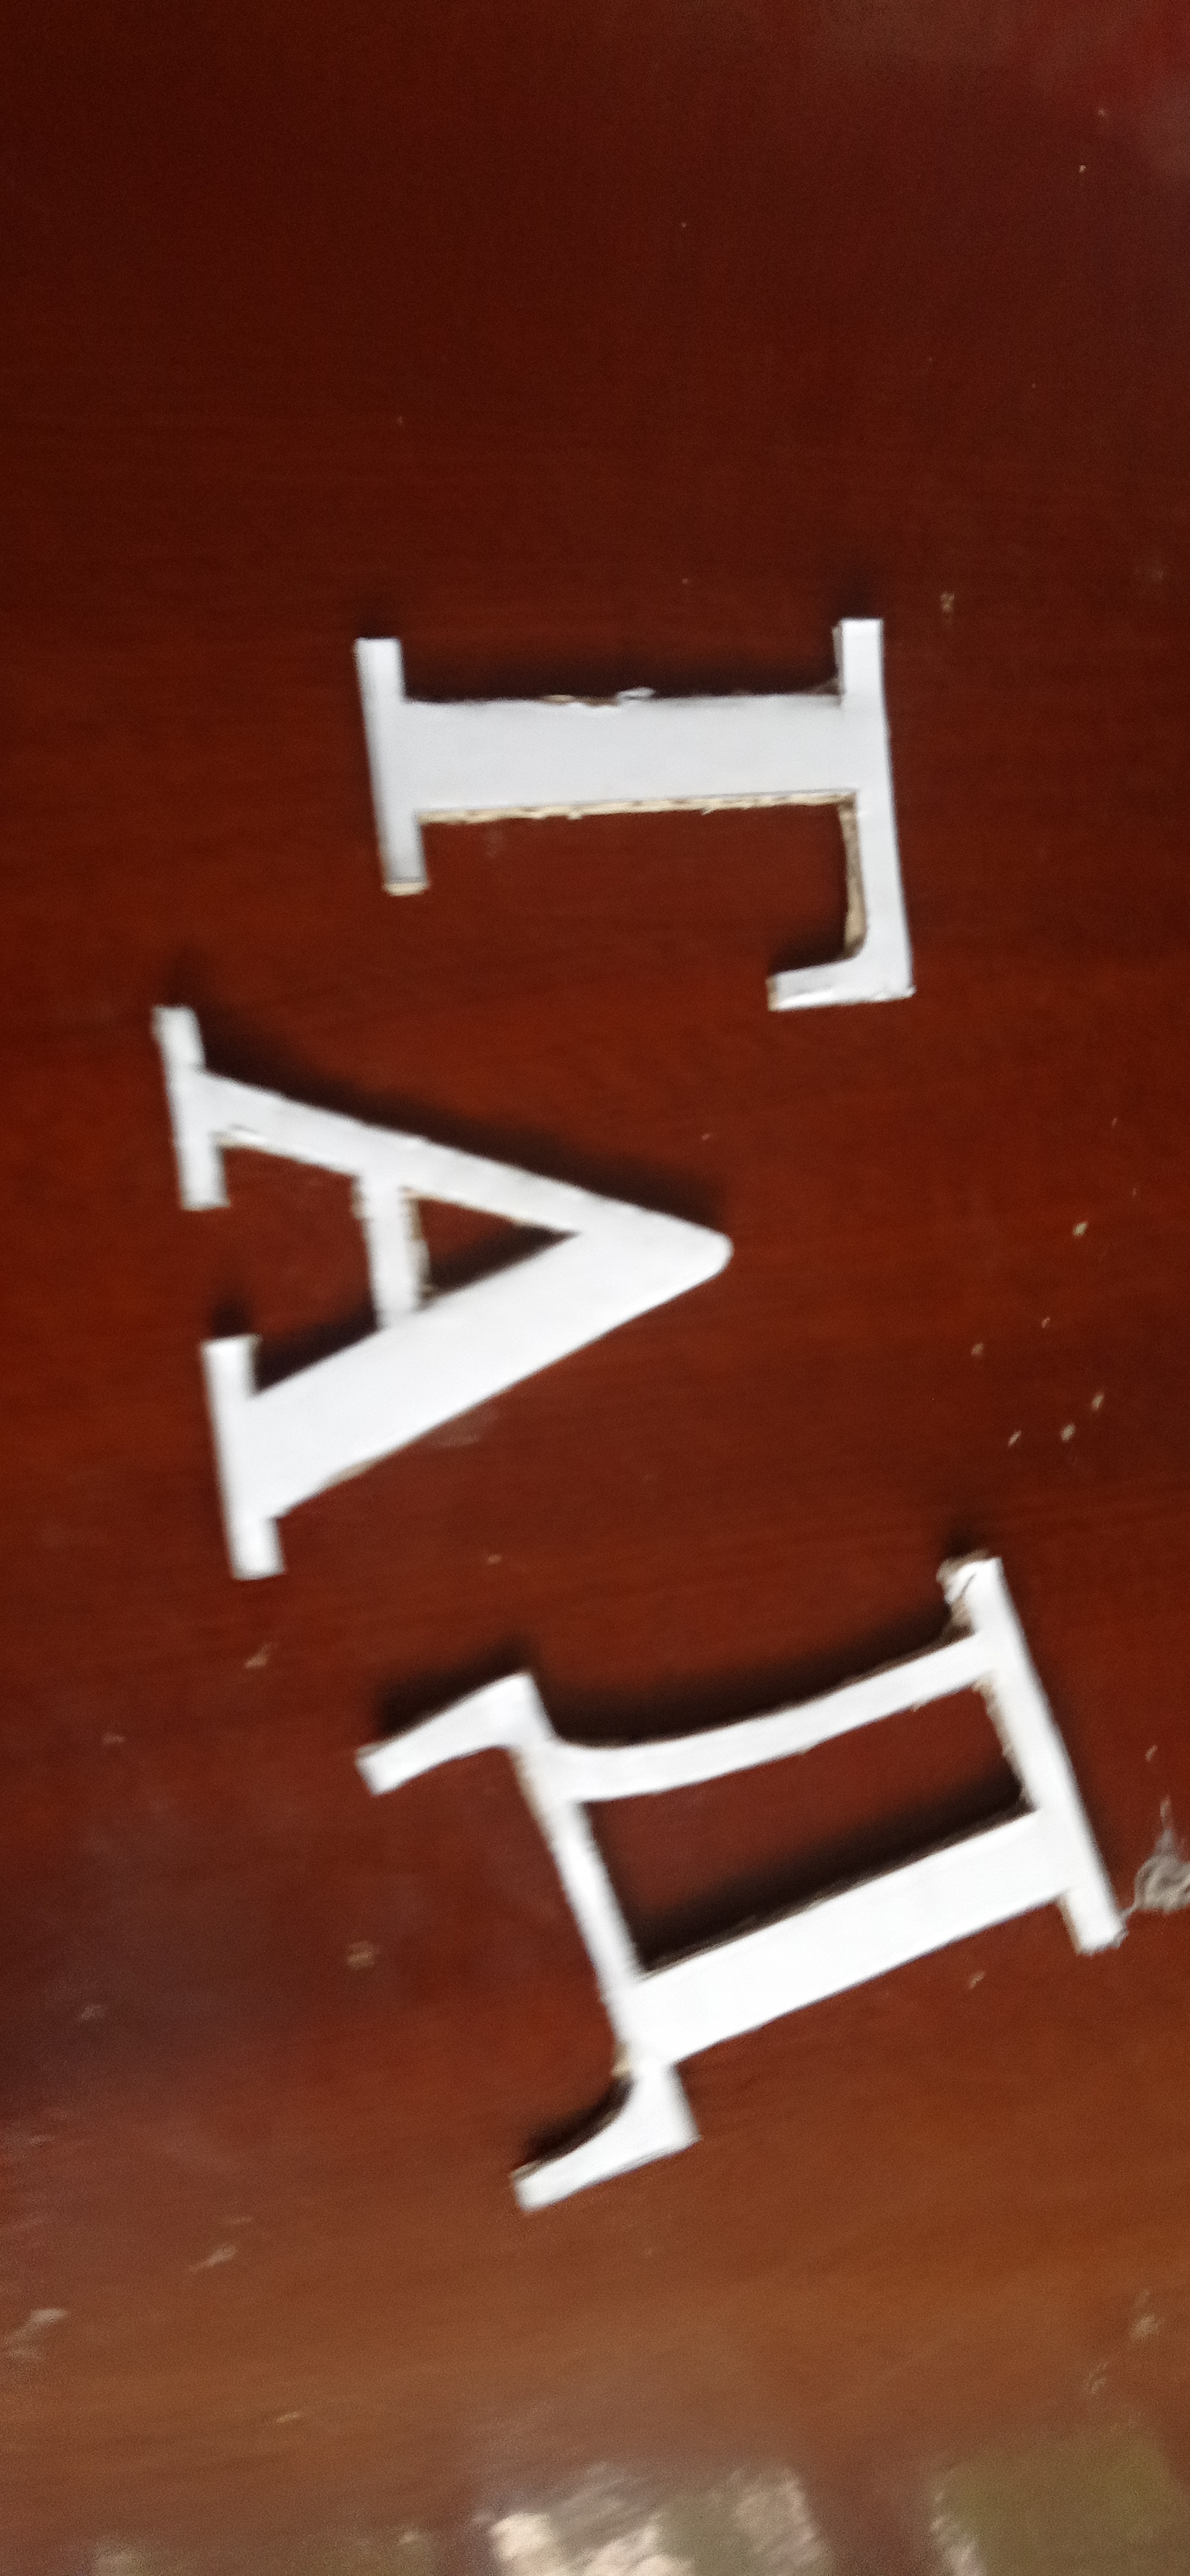a: (143, 992, 740, 1592)
d: (352, 1546, 1132, 2213)
g: (352, 609, 917, 1009)
